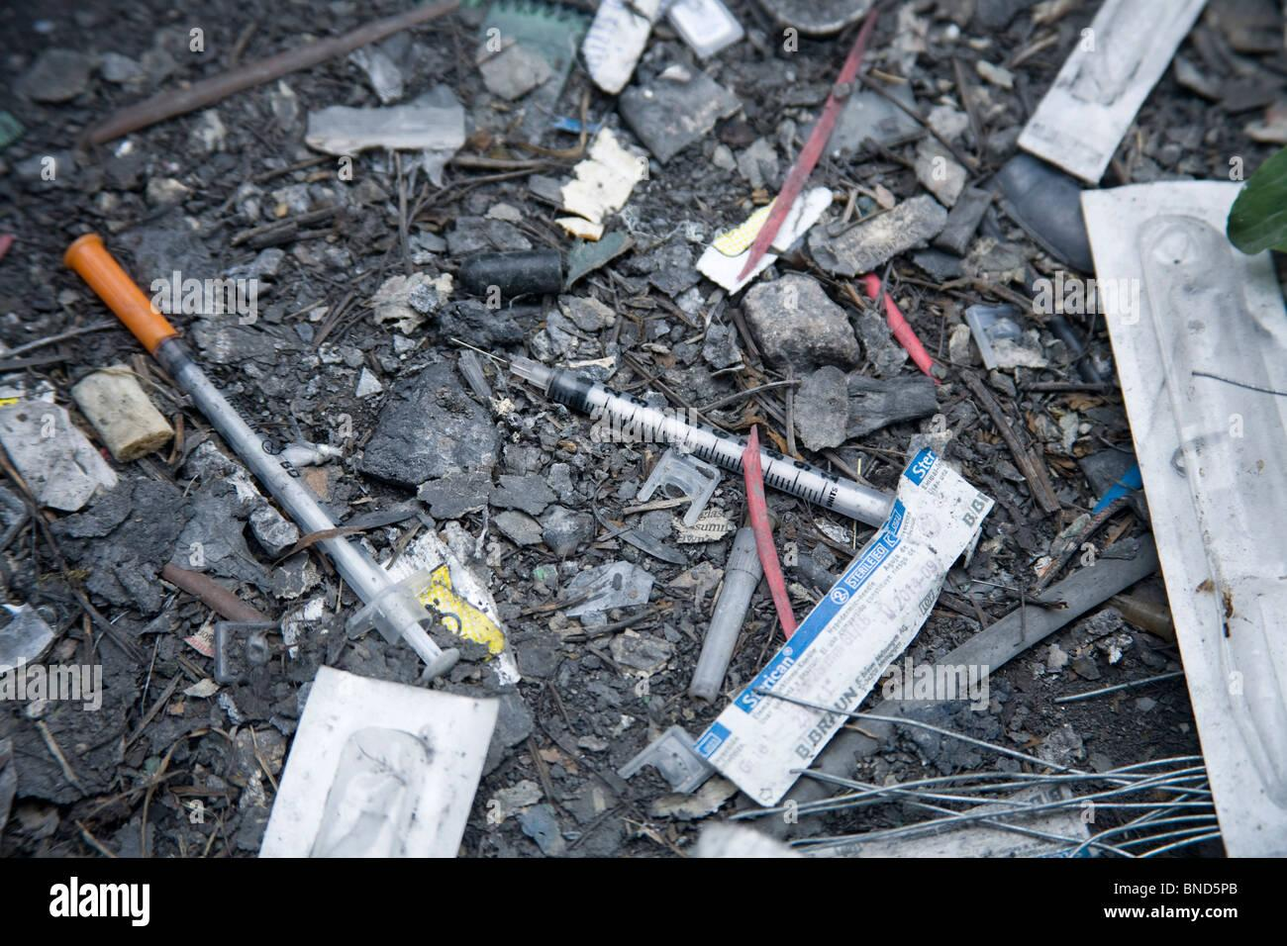Syringe: (64, 235, 335, 532), (510, 359, 744, 472)
